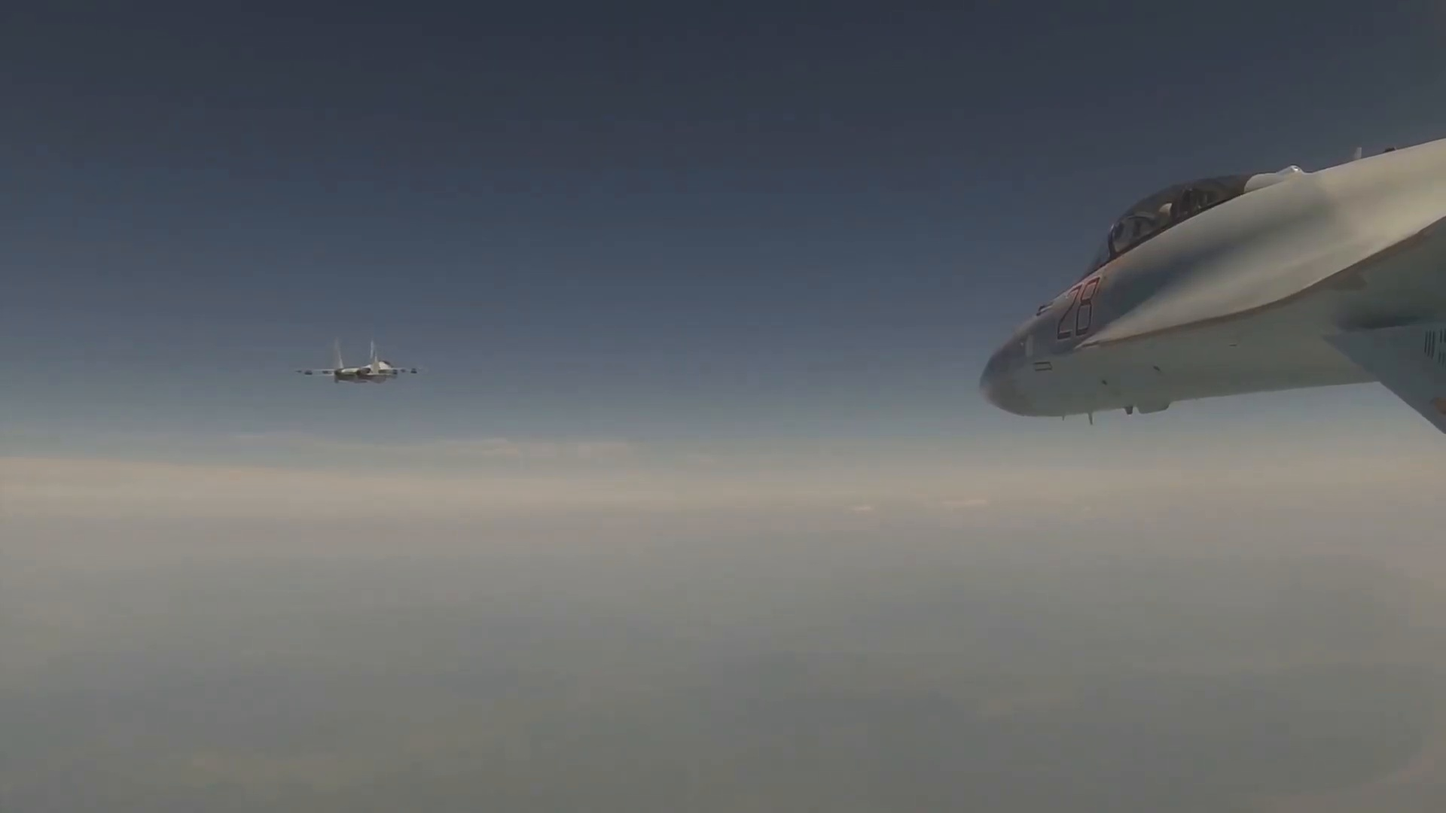Su35: (296, 340, 420, 386)
